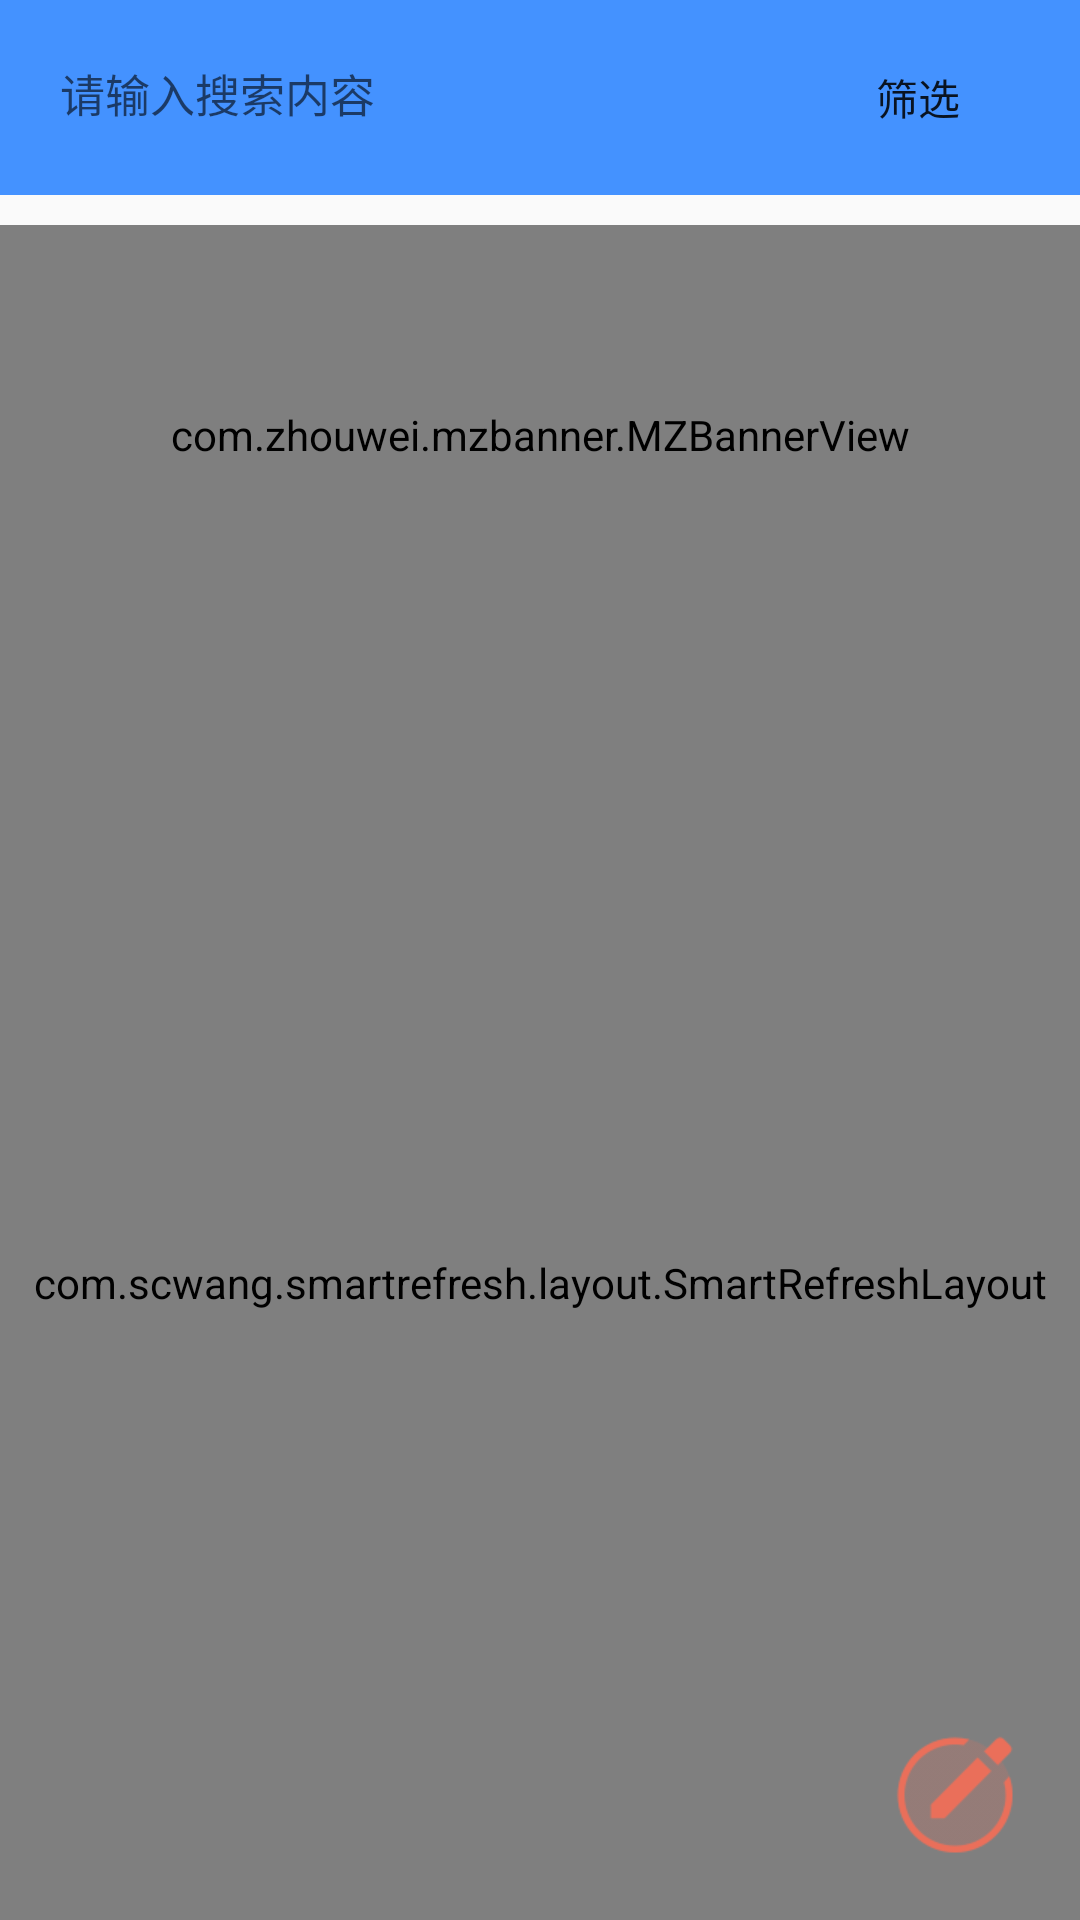

Icons on this 1080*1920 Android screen, each with the point to tap as (x,y):
float write: (954,1794)
